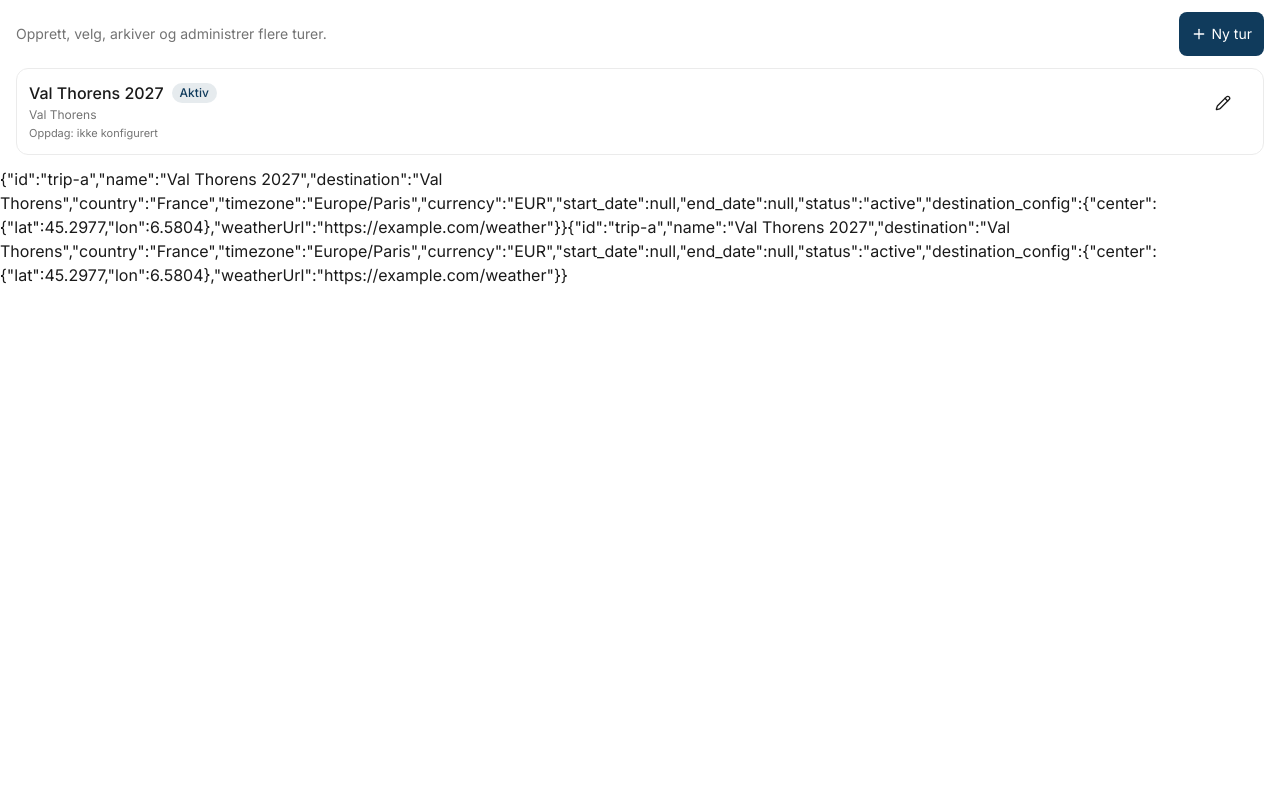
Test: faktisk turlagring gjennom AdminTrips og TripProvider › avslutter en bekreftet lagring selv om andre datakilder fortsatt laster
This screenshot has width=1280, height=800.
Click the button named "Rediger tur": coordinates (1229, 103) [1207,81,1251,125]
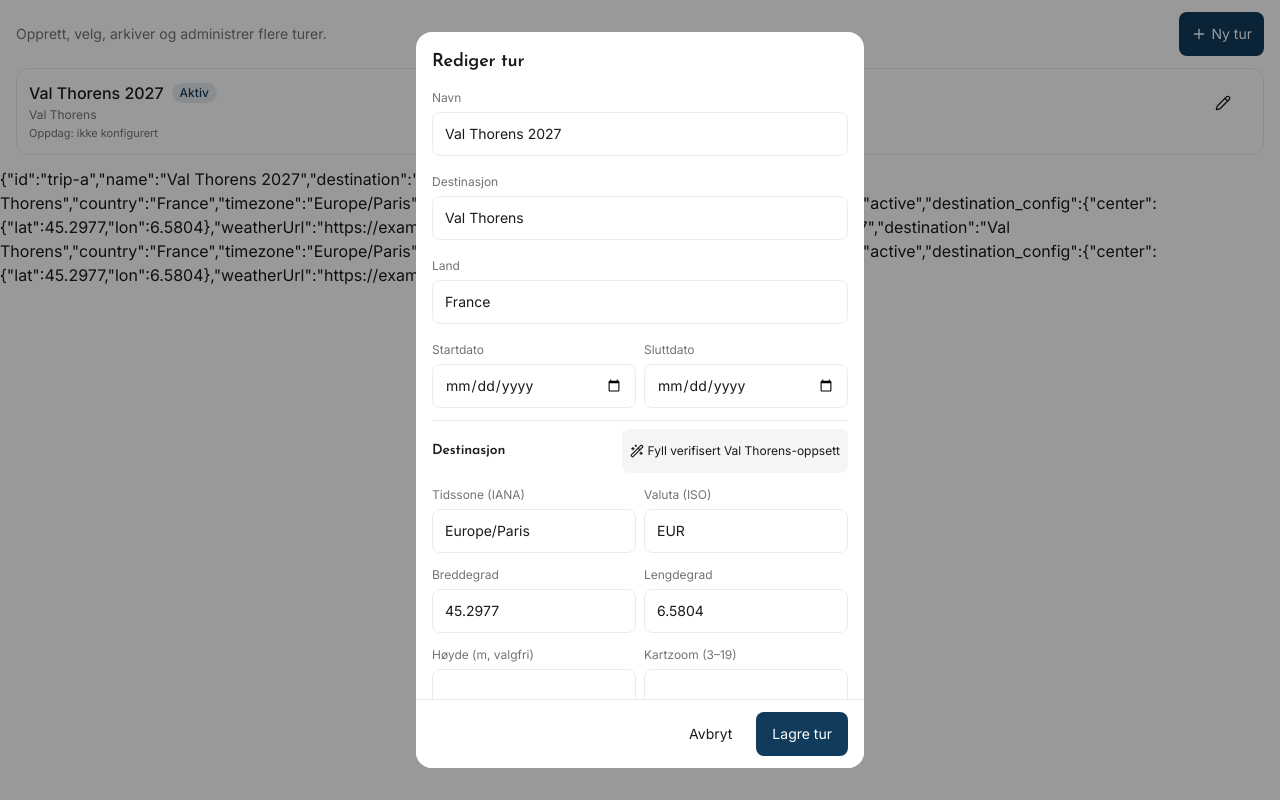
In the date field labelled "Startdato": coordinates (534, 386) [432,364,636,408], type "2027-02-10"
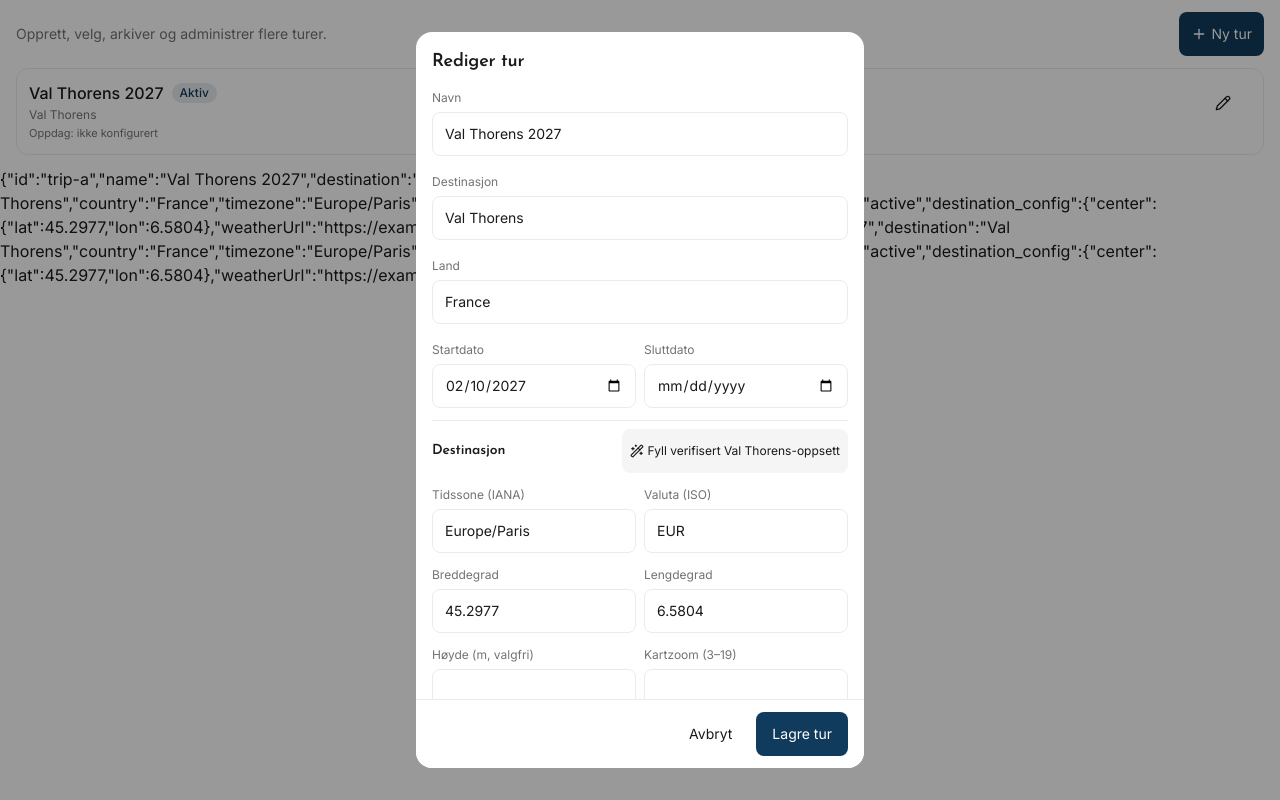
In the date field labelled "Sluttdato": coordinates (746, 386) [644,364,848,408], type "2027-02-17"
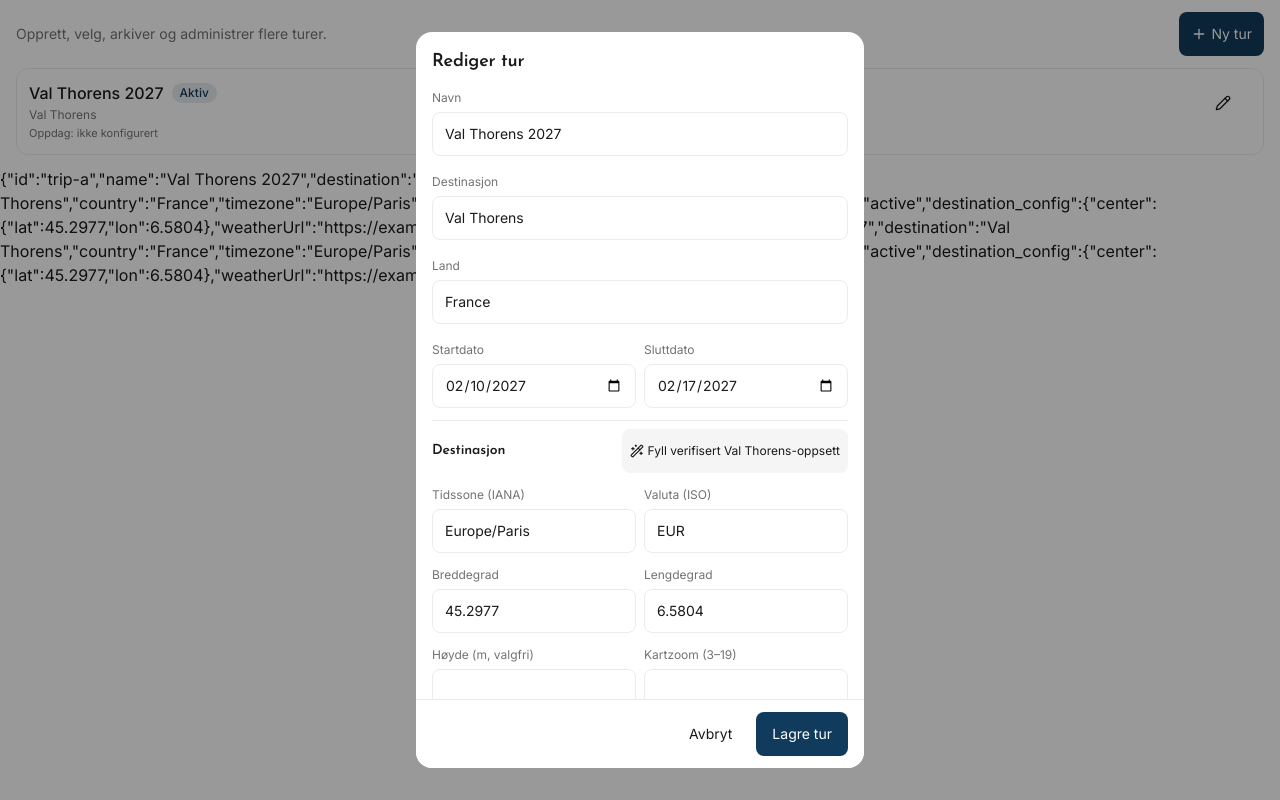
Click the button "Lagre tur": coordinates (802, 734) [756,712,848,756]
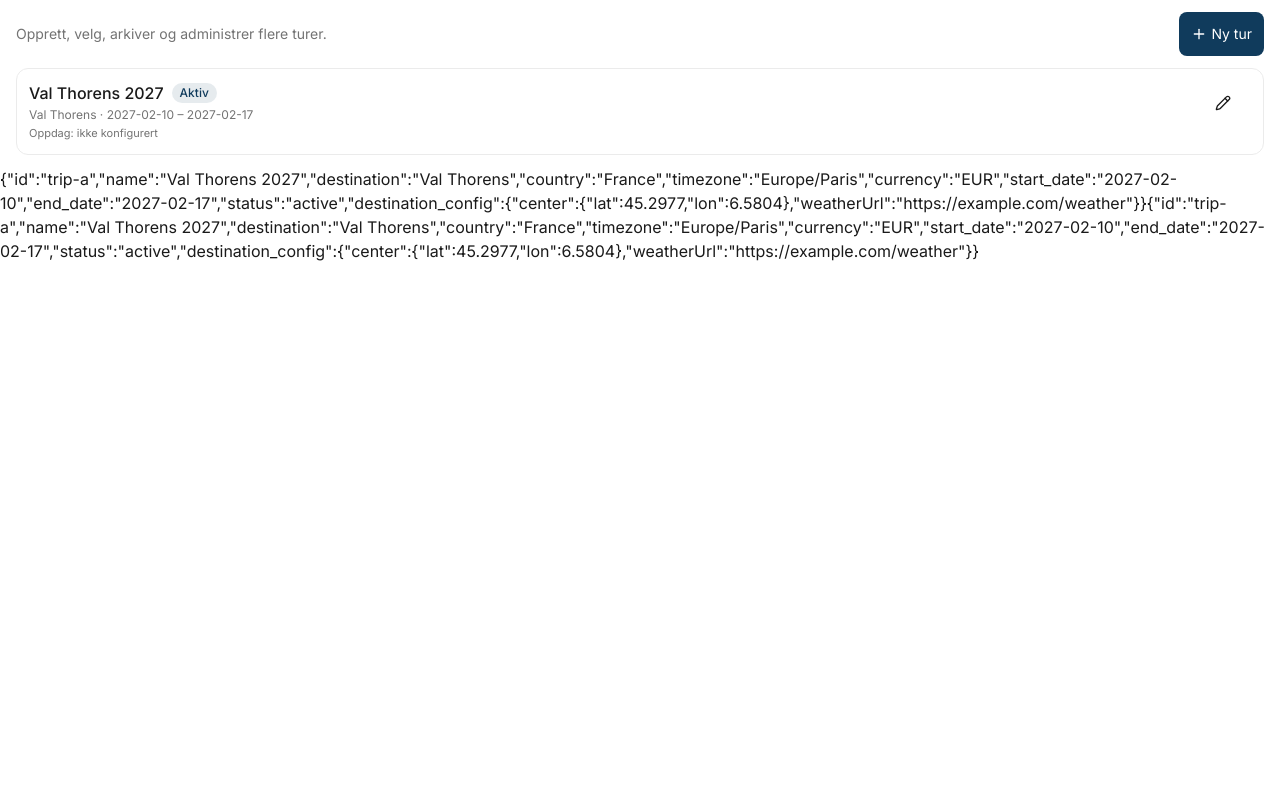
Expected: the dialog is gone
Expected: the text named "Hjem" shows "2027-02-10", [0,168,1177,212]
